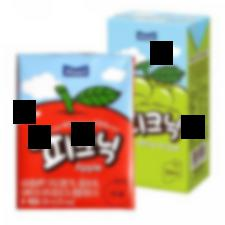picnic_apple: (14, 51, 137, 215)
